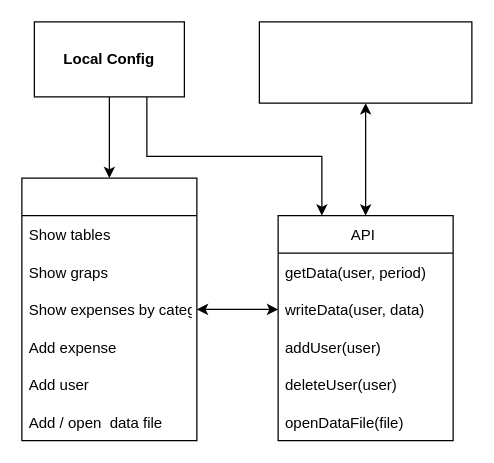
This 494x463 diagram has some shape labels left out. The shapes that lost their labels are listed below. From the top down, each one's box as (x1, y1, x2, y2) in pixels, then its label:
(258, 21, 472, 103): Local Database/Binary/Text (crypted) file
(21, 177, 197, 441): GUI
